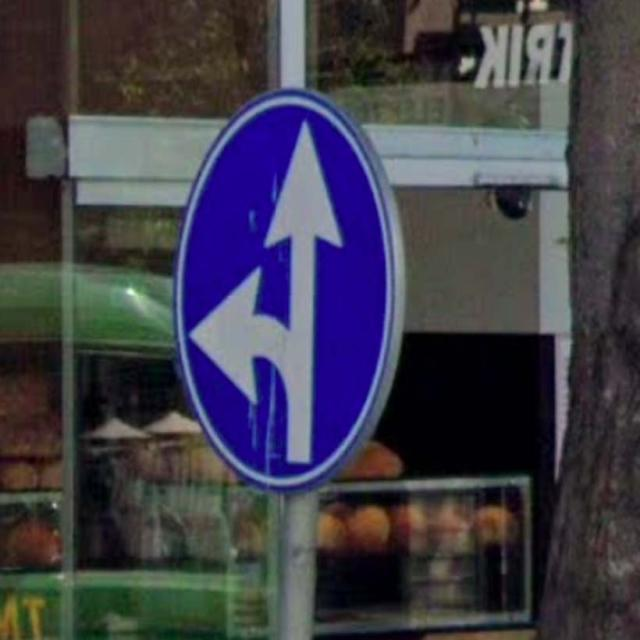ilerisol: (170, 87, 398, 501)
